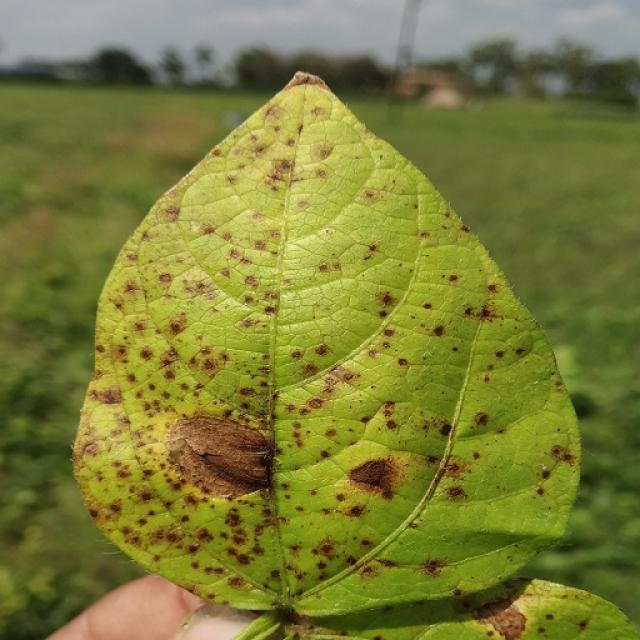Anthracnose: (166, 414, 272, 497), (205, 505, 269, 569), (291, 362, 365, 410), (345, 452, 414, 502), (478, 604, 526, 639), (262, 155, 297, 189), (166, 421, 193, 464), (470, 594, 515, 615), (182, 274, 215, 298), (89, 385, 122, 405), (70, 442, 89, 474), (549, 443, 573, 464), (168, 315, 188, 336), (374, 290, 396, 309), (265, 105, 286, 124), (312, 142, 334, 160), (315, 540, 335, 557), (479, 303, 497, 320), (161, 204, 180, 220), (281, 610, 301, 625), (422, 560, 443, 574), (123, 281, 142, 296), (138, 346, 155, 362), (346, 504, 365, 517), (474, 412, 489, 427), (314, 344, 329, 357), (310, 106, 327, 117), (439, 422, 452, 436), (201, 223, 216, 235), (244, 275, 258, 287), (228, 248, 242, 260), (157, 273, 172, 284), (308, 398, 323, 409), (202, 359, 215, 371), (432, 325, 444, 337), (87, 507, 99, 519), (577, 619, 589, 631), (486, 283, 499, 294), (271, 390, 282, 403), (264, 304, 275, 316), (297, 199, 310, 209), (254, 240, 266, 250), (541, 469, 551, 480), (383, 328, 395, 337), (363, 190, 375, 199), (397, 358, 408, 367), (318, 264, 329, 273), (367, 244, 378, 252), (536, 487, 545, 496), (448, 274, 458, 282), (420, 231, 430, 239), (545, 613, 555, 621), (483, 373, 491, 382), (423, 303, 432, 310)
Blackgram: (74, 74, 638, 639)
